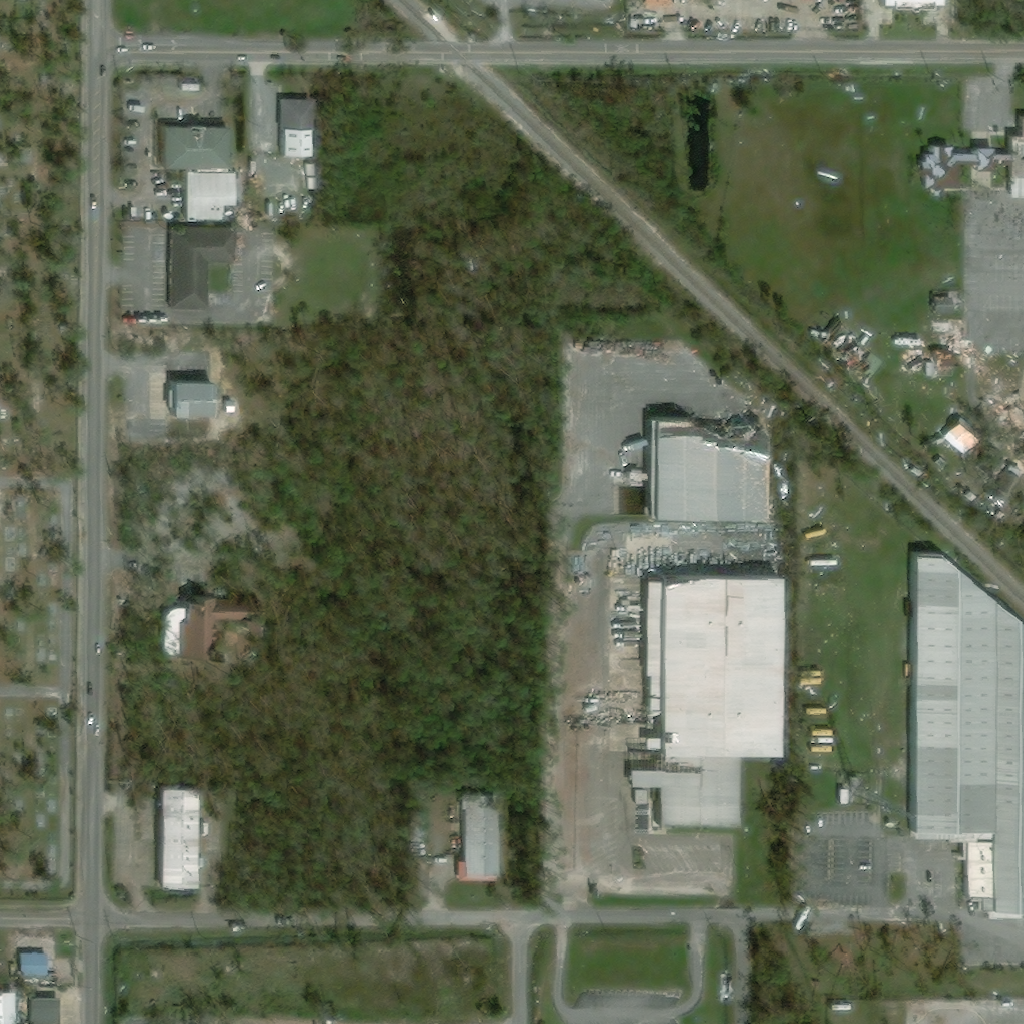destroyed: (826, 318, 891, 378), (933, 351, 965, 379), (940, 324, 965, 342), (939, 454, 959, 474), (931, 415, 948, 431), (9, 414, 17, 424)
major_damage: (636, 571, 799, 830), (651, 409, 778, 524), (940, 297, 973, 315)
minor_damage: (172, 591, 276, 663), (932, 147, 969, 199), (949, 418, 988, 458), (963, 149, 1020, 173), (1016, 136, 1024, 200)
no_damage: (916, 552, 1024, 919), (175, 226, 246, 311), (164, 788, 210, 893), (465, 794, 511, 884), (171, 125, 238, 170), (193, 168, 245, 220), (175, 380, 225, 416), (288, 98, 324, 130), (291, 128, 324, 159), (35, 995, 70, 1024), (27, 954, 67, 979), (0, 992, 27, 1024), (231, 399, 245, 413), (849, 790, 858, 807)
unclassified: (886, 0, 956, 8), (648, 0, 683, 11)
